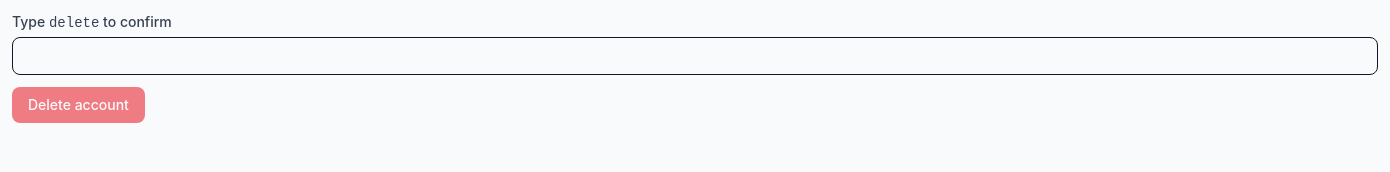
Test case: DeleteConfirm › waits for the word delete, whatever its case and spaces
Later steps or results of the test are not shown.
Expected: the button "Delete account" is disabled, [12,87,145,123]
Type "delet" into the field labelled "Type delete to confirm" at [695, 56], box [12,37,1378,75]
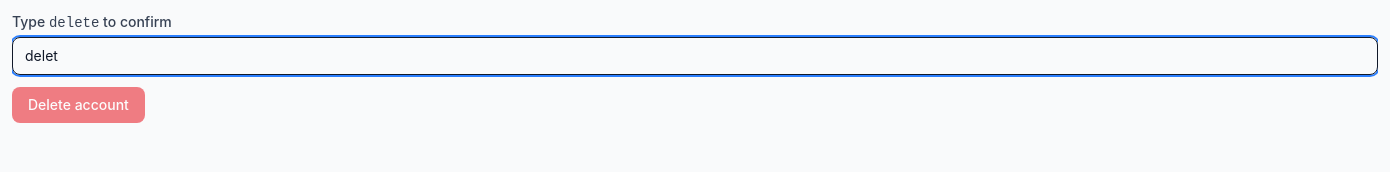
Expected: the button "Delete account" is disabled, [12,87,145,123]
Replace the text in the field labelled "Type delete to confirm" with " Delete " at [695, 56], box [12,37,1378,75]
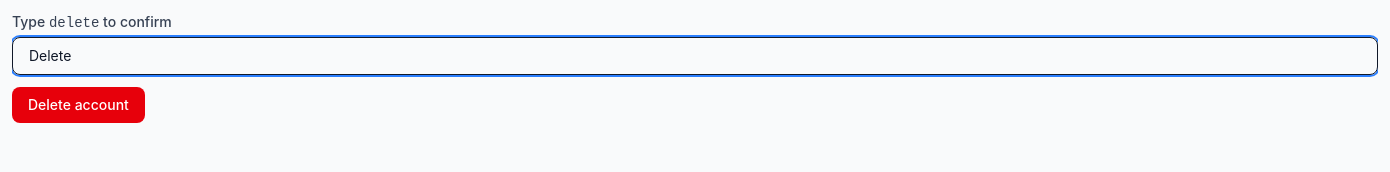
Now the button "Delete account" is enabled, box [12,87,145,123]
